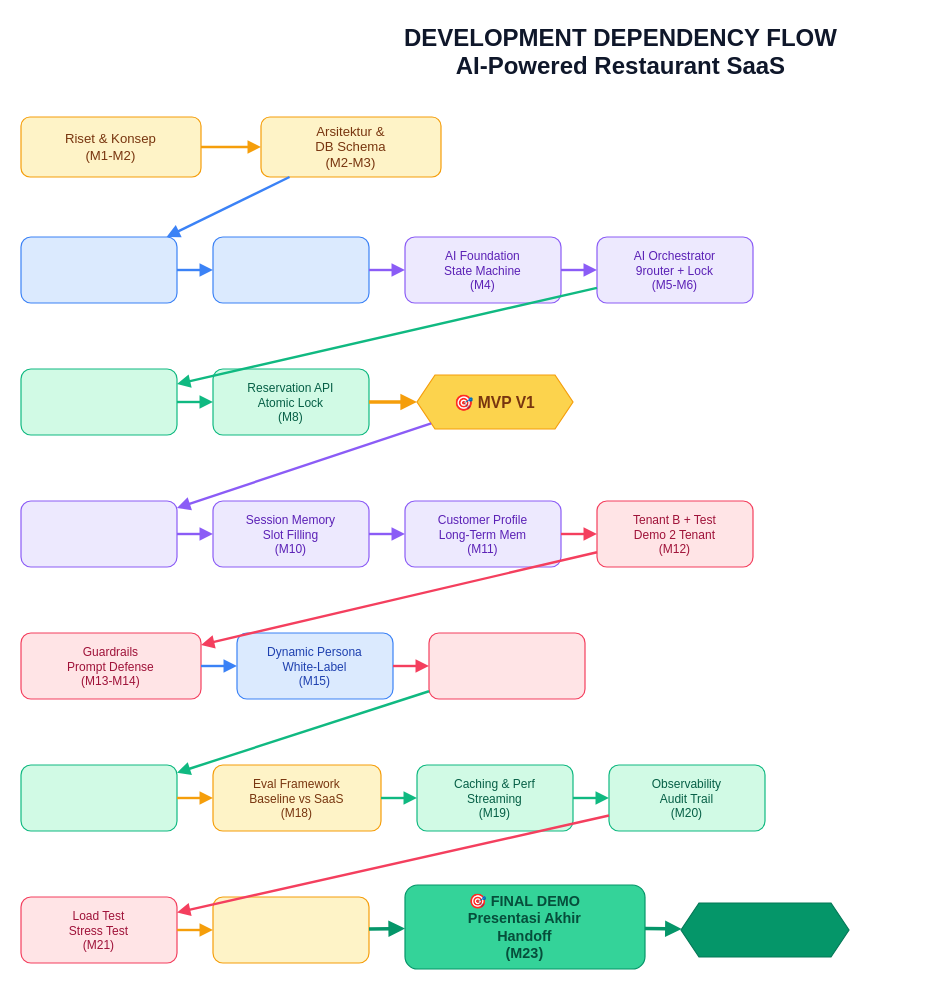
Image size: 942x990. Some labels were removed from this diagram. The shapes that lost their labels are listed below. From the top down, each one's box as (x1, y1, x2, y2) in pixels, then its label:
(20, 236, 177, 303): Frontend Landing + Menu (M3)
(212, 236, 369, 303): Admin Dashboard POS & Payment (M4)
(20, 368, 177, 435): PostgreSQL NestJS API (M7)
(20, 500, 177, 567): SDK LLM Model Router (M9)
(428, 632, 585, 699): Tenant C + Test Demo 3 Tenant (M16)
(20, 764, 177, 831): Order API AI Order Tools (M17)
(212, 896, 369, 963): Final Eval Documentation (M22)
(680, 902, 849, 957): ✅ SELESAI
